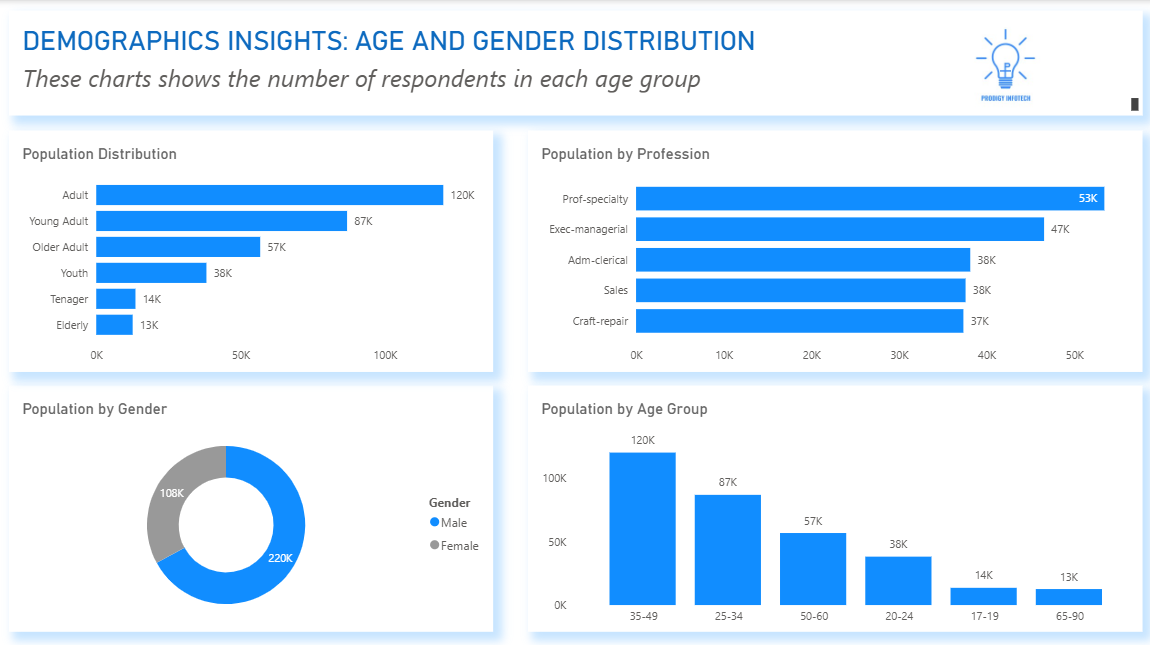

The page's visual inventory and layout, read from the dashboard file:
{"tool":"powerbi","page":{"name":"Page 1","canvas":[1280,720],"ordinal":0},"visuals":[{"type":"textbox","title":"DEMOGRAPHICS INSIGHTS: AGE AND GENDER DISTRIBUTION","box":[13.3,11.6,1252.3,116],"z":0},{"type":"image","box":[964.1,16.6,299.8,111],"z":1000},{"type":"donutChart","title":"Population by Gender","fields":{"Category":["adult.sex"],"Y":["Sum(adult.education.num)"]},"box":[13.2,425.2,534.8,272.1],"z":2000},{"type":"barChart","title":"Population Distribution","fields":{"Category":["adult.Category"],"Y":["Sum(adult.education.num)"]},"box":[13.2,143.6,534.8,266.5],"z":2001},{"type":"barChart","title":"Population by Profession","fields":{"Category":["adult.occupation"],"Y":["Sum(adult.education.num)"]},"box":[585.8,143.6,678.4,266.5],"z":2002},{"type":"columnChart","title":"Population by Age Group","fields":{"Category":["adult.Age Group"],"Y":["Sum(adult.education.num)"]},"box":[585.8,425.2,678.4,272.1],"z":2003}]}

Visuals, with their boxes in screenshot pixels (x1, y1, x2, y2), scaled from the page's 1280x720 canvas onto the 1150x645 screenshot:
"DEMOGRAPHICS INSIGHTS: AGE AND GENDER DISTRIBUTION" textbox: [12, 10, 1137, 114]
image: [866, 15, 1136, 114]
"Population by Gender" donutChart: [12, 381, 492, 625]
"Population Distribution" barChart: [12, 129, 492, 367]
"Population by Profession" barChart: [526, 129, 1136, 367]
"Population by Age Group" columnChart: [526, 381, 1136, 625]
